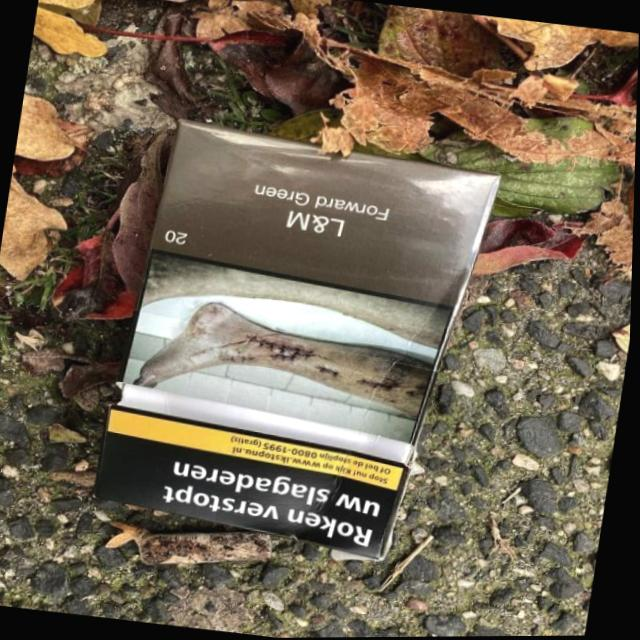Paper: (79, 104, 513, 579)
